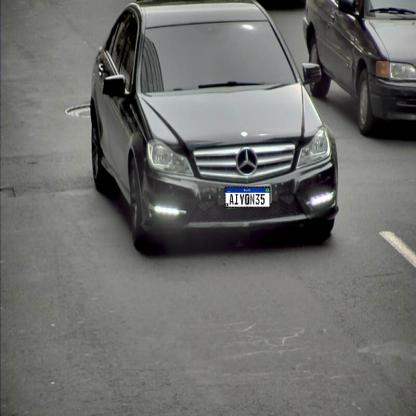PlacaM: (224, 187, 271, 208)
